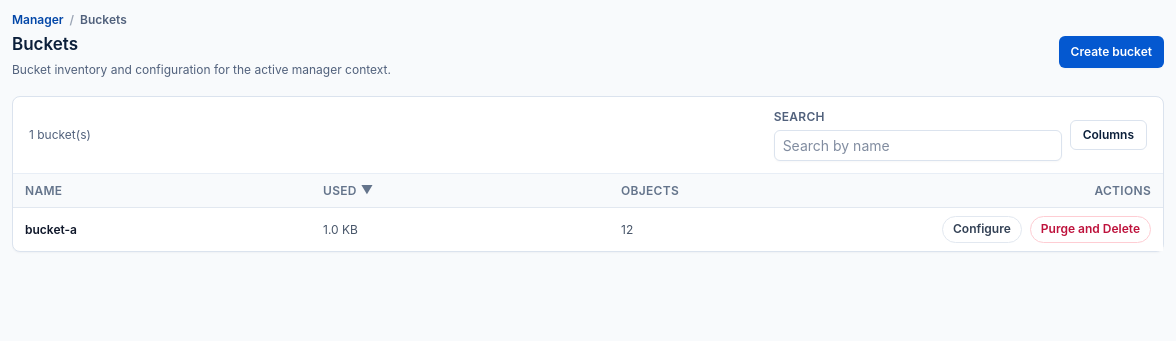
Scenario: manager shell pages › opens the delete-with-purge page for a non-empty bucket when purge access is enabled
Expected: the text "bucket-a" is shown, [25,222,77,236]
Step 1. Click the button "Purge and Delete" → click(1090, 229), box [1030,216,1151,243]
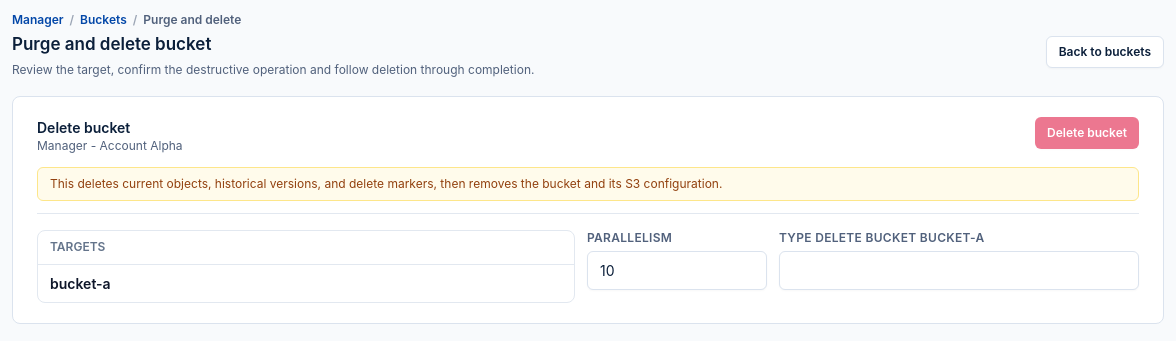
Now the heading "Purge and delete bucket" is shown, box [12,32,211,56]
Now the field labelled "Type DELETE BUCKET bucket-a" is shown, box [779,250,1139,290]
Now the text "This deletes current objects, historical versions, and delete markers, then removes the bucket and its S3 configuration." is shown, box [50,176,722,190]
